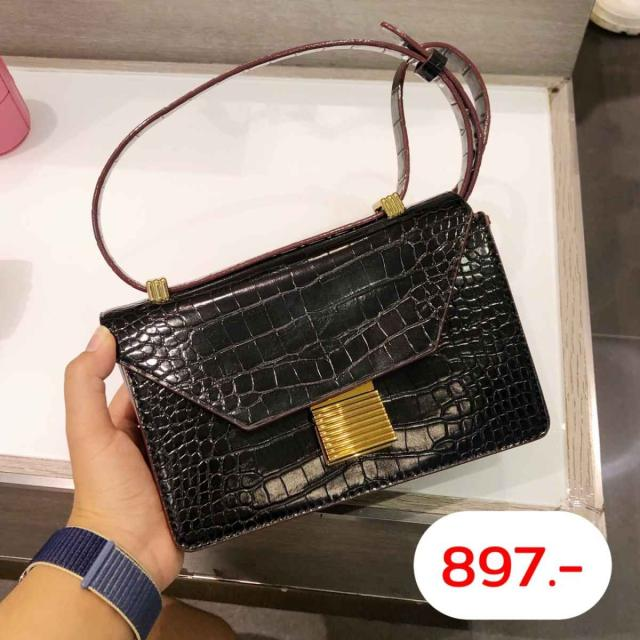Handbag: (111, 195, 547, 540)
